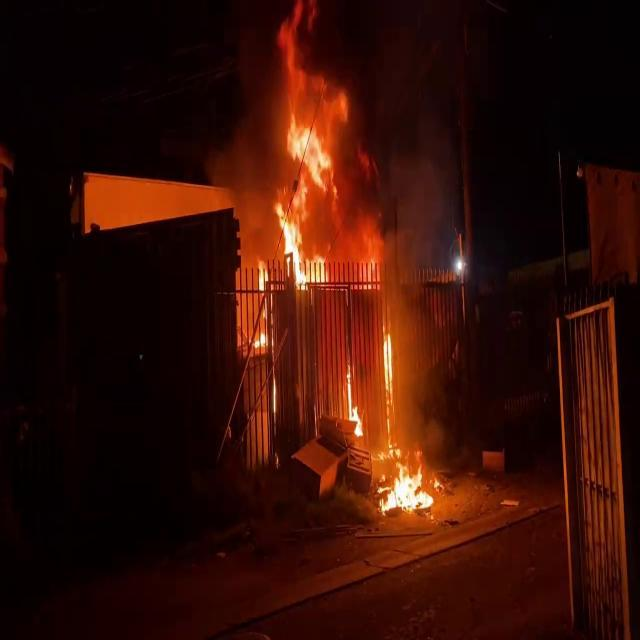Fire: (254, 8, 358, 292), (379, 455, 436, 516), (253, 247, 273, 348), (342, 354, 363, 436)
Smoke: (350, 118, 464, 418)
